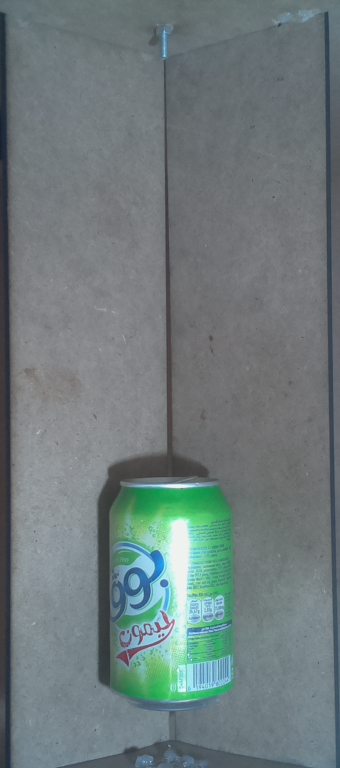Canette: (98, 466, 245, 714)
